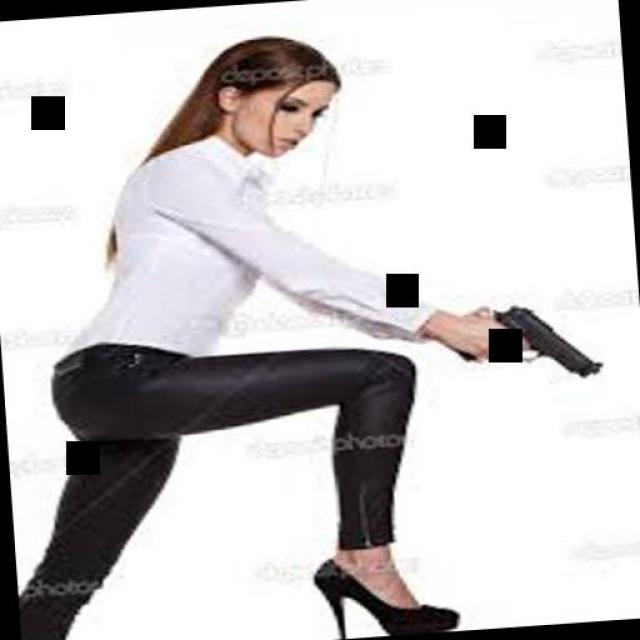gun: (440, 292, 602, 390)
